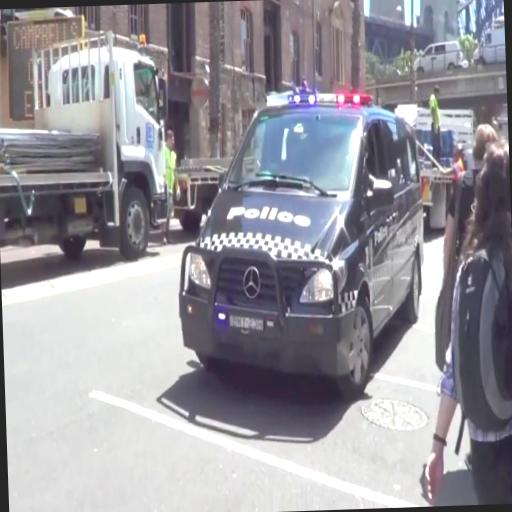Ambulance: (172, 81, 432, 406)
